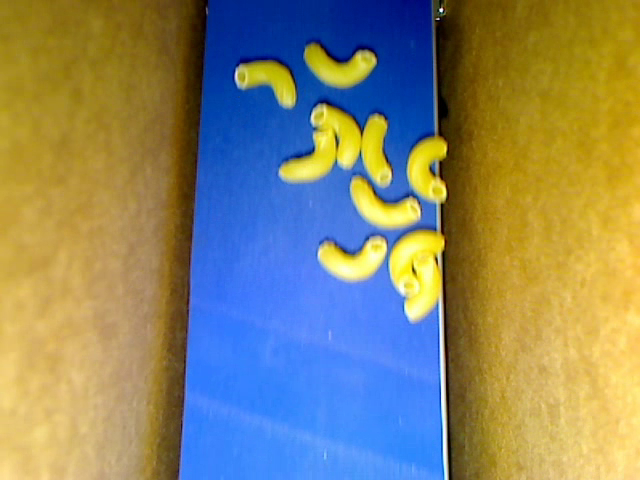elbow: (387, 228, 446, 299), (348, 173, 421, 230), (308, 103, 362, 170), (316, 234, 388, 284), (303, 42, 377, 88), (277, 128, 337, 182), (234, 60, 297, 108), (406, 136, 447, 205), (402, 253, 441, 324), (359, 112, 391, 187)
